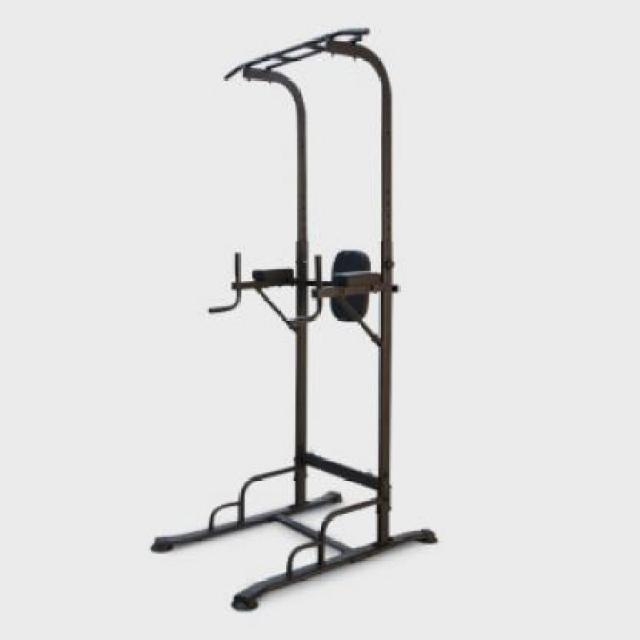chinning dipping: (152, 26, 440, 612)
